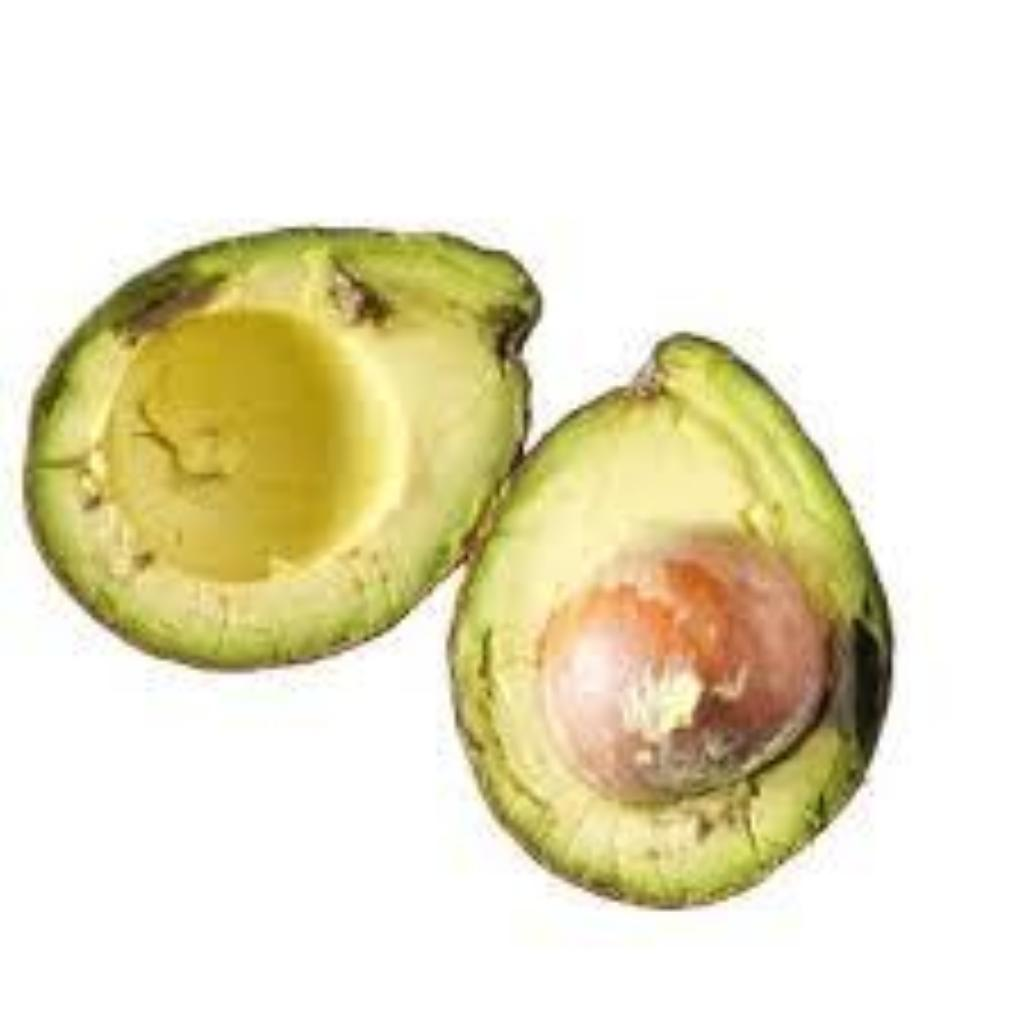antracnosis_fruto: (555, 359, 896, 901), (50, 227, 455, 555)
